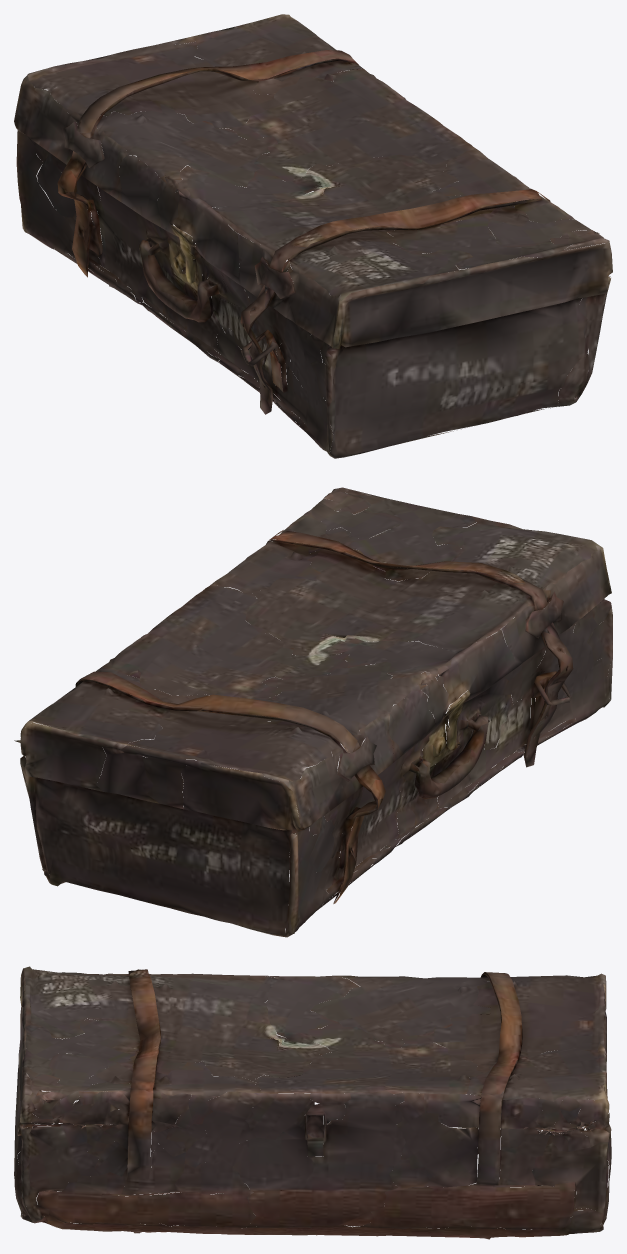
File: si_gottlieb_suitcase.gltf
The picture shows the model from 3 angles, top to bottom: view 1: azimuth 30°, elevation 25°; view 2: azimuth 150°, elevation 25°; view 3: azimuth 270°, elevation 25°; orthographic projection. The views are drawn at different scales.
Parts seen in each view (by area): view 1: mesh_0; view 2: mesh_0; view 3: mesh_0.
Part boxes in pixels (x1,y1,x2,y2): mesh_0: [14, 14, 612, 458]; mesh_0: [14, 487, 612, 937]; mesh_0: [14, 966, 611, 1239].
Bounding box in the file's own units: 0.4164 × 0.259 × 0.7729.
Materials: 1 (1 with a texture image).
